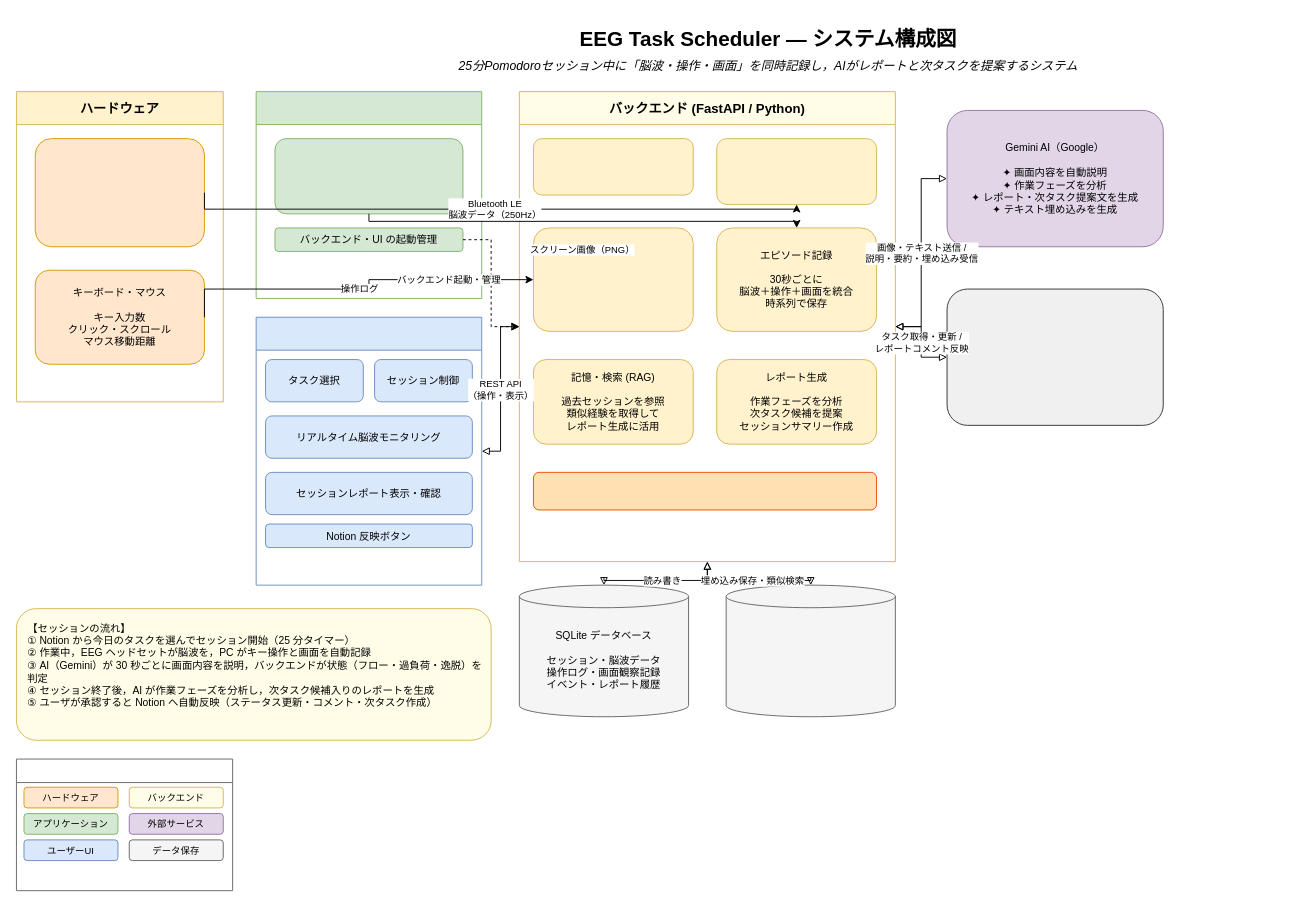
Image size: 1302x907. Some labels were removed from this diagram. Here are the shapes that lost their labels. From the top down, the box of each, then its label:
(274, 138, 463, 214): 画面キャプチャ 30秒ごとに自動撮影 PNG をバックエンドへ送信
(533, 138, 693, 195): セッション管理 開始・停止・25分タイマー
(716, 138, 877, 204): 脳波信号処理 ノイズ除去・θ/α/β波計算 集中度・認知負荷を算出
(34, 138, 204, 247): EEGヘッドセット (ADS1299 + ESP32S3) 8チャンネル脳波計測 Bluetooth LE 接続 250 Hz サンプリング
(255, 91, 482, 298): デスクトップアプリ (Electron)
(533, 227, 693, 331): 状態判定 ✦ フロー状態 ✦ 過負荷停止 ✦ 逸脱停止 ✦ 通常作業
(946, 288, 1163, 425): Notion（タスク管理） ✦ 未完了タスクの一覧取得 ✦ 「作業中」ステータスへ更新 ✦ セッションレポートをコメント追加 ✦ 次タスクを自動作成
(255, 316, 482, 585): 操作画面 (React Web UI)
(533, 471, 877, 510): REST API（20+ エンドポイント）
(725, 584, 895, 717): ベクトル DB (Chroma) テキスト埋め込みを保存 意味的な類似検索 RAG で過去記憶を参照
(16, 758, 233, 891): 凡例
